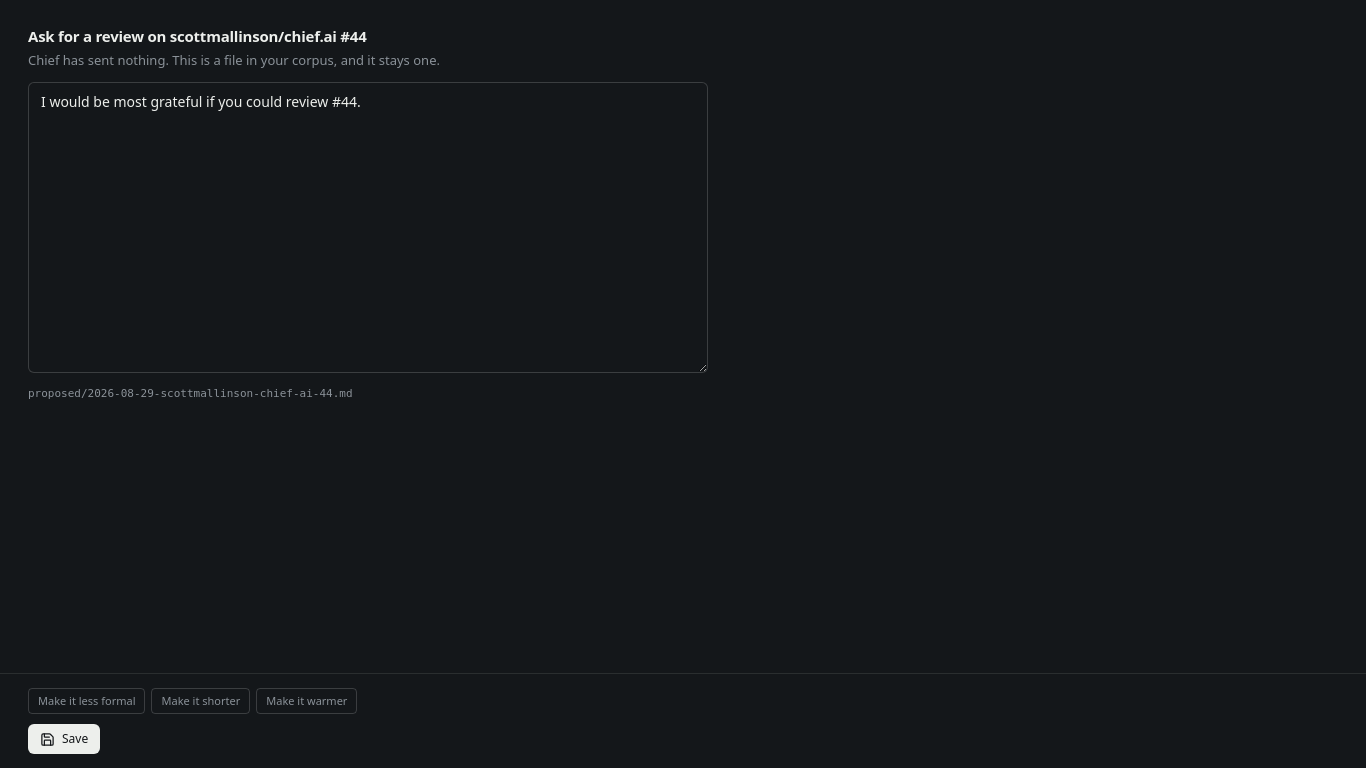
DraftEditor › rewrites the draft in place when asked
Click the button "Make it less formal".
click(87, 701)  # box [28, 688, 146, 714]
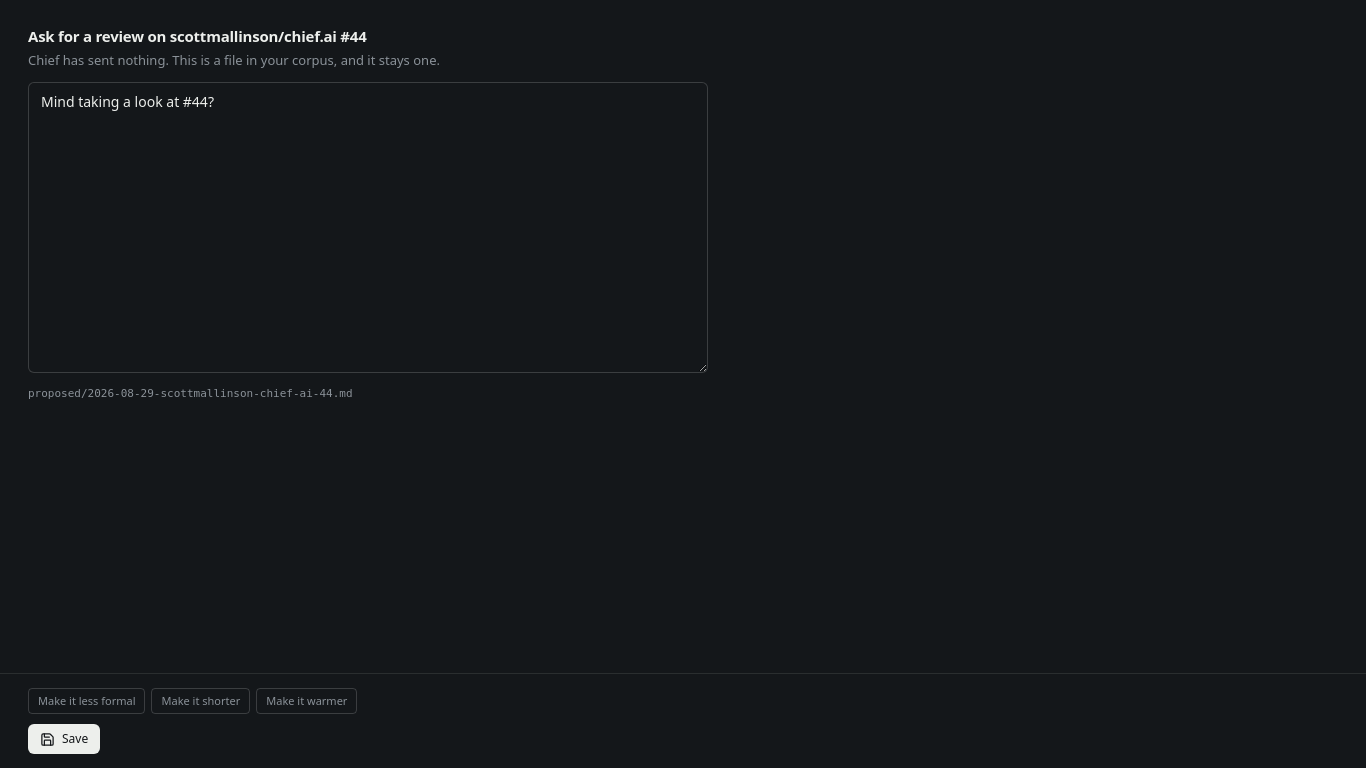
expect the text box named "Draft" holds "Mind taking a look at #44?": met, box [28, 82, 708, 373]
